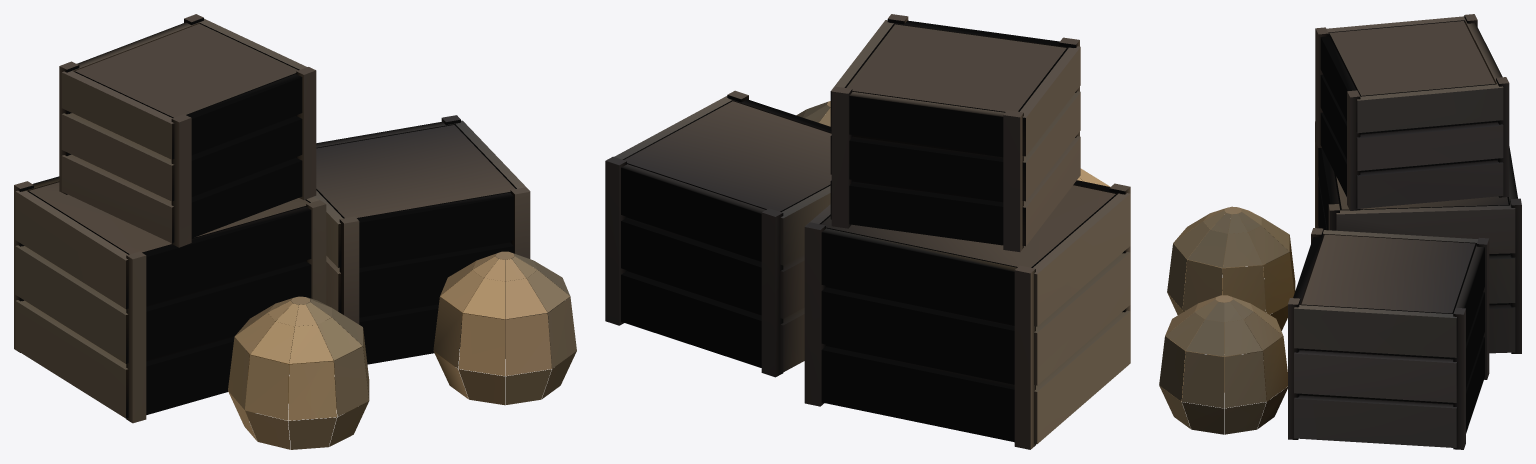
Rendered from cajas.glb.
3 renders of one model, left to right at view 1: azimuth 30°, elevation 25°; view 2: azimuth 150°, elevation 25°; view 3: azimuth 270°, elevation 25°, orthographic. The views are drawn at different scales.
Visible parts, largest first — view 1: cajas_piezas; view 2: cajas_piezas; view 3: cajas_piezas.
Boxes of the visible parts, x1,y1,x2,y2 form: cajas_piezas: [14, 14, 576, 449]; cajas_piezas: [605, 14, 1130, 449]; cajas_piezas: [1159, 14, 1521, 449].
Size of the model in its own units: 1.49 by 0.9705 by 1.21.
